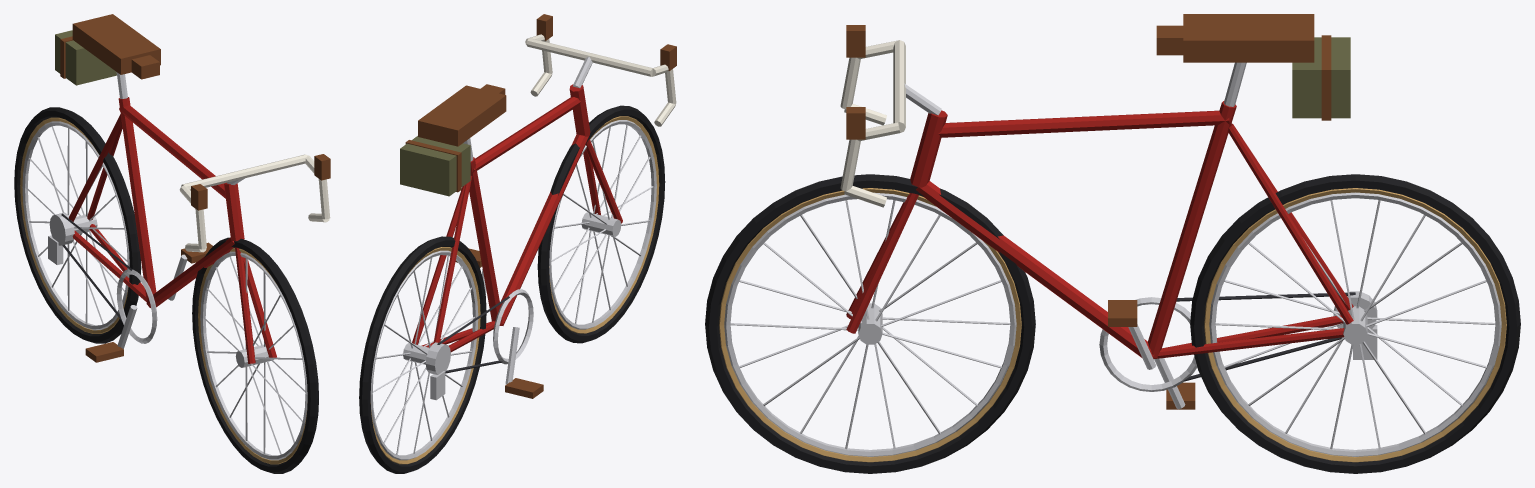
3 views of the same model, side by side, from view 1: azimuth 30°, elevation 25°; view 2: azimuth 150°, elevation 25°; view 3: azimuth 270°, elevation 25° (orthographic). The views are drawn at different scales.
Visible parts, largest first — view 1: Bicycle; view 2: Bicycle; view 3: Bicycle.
Part boxes in pixels (x1,y1,x2,y2): Bicycle: (14, 14, 330, 473); Bicycle: (359, 14, 676, 473); Bicycle: (705, 14, 1520, 473).
Size of the model in its own units: 0.43 by 1.02 by 1.68.
